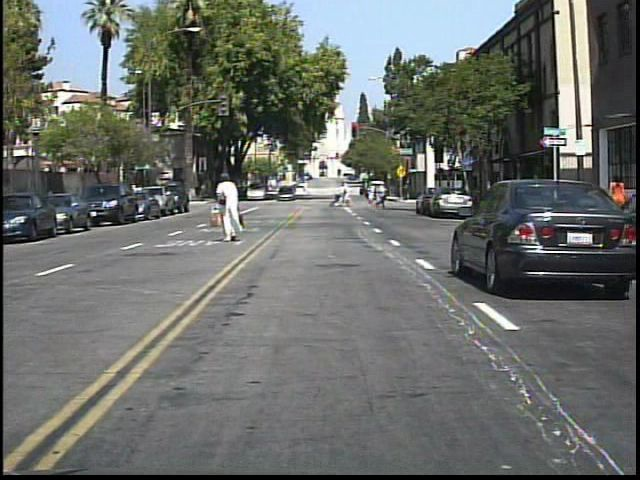person: (210, 169, 251, 248), (607, 167, 630, 230), (501, 169, 521, 219), (374, 179, 390, 210), (341, 180, 354, 210)
